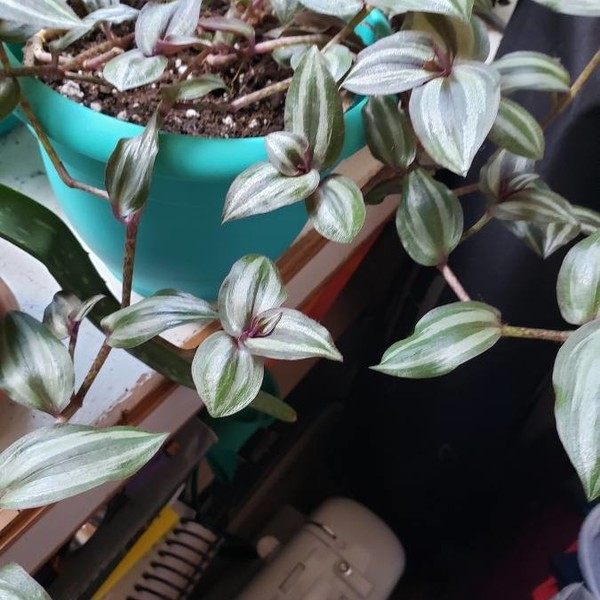obstacle: (32, 7, 584, 438)
